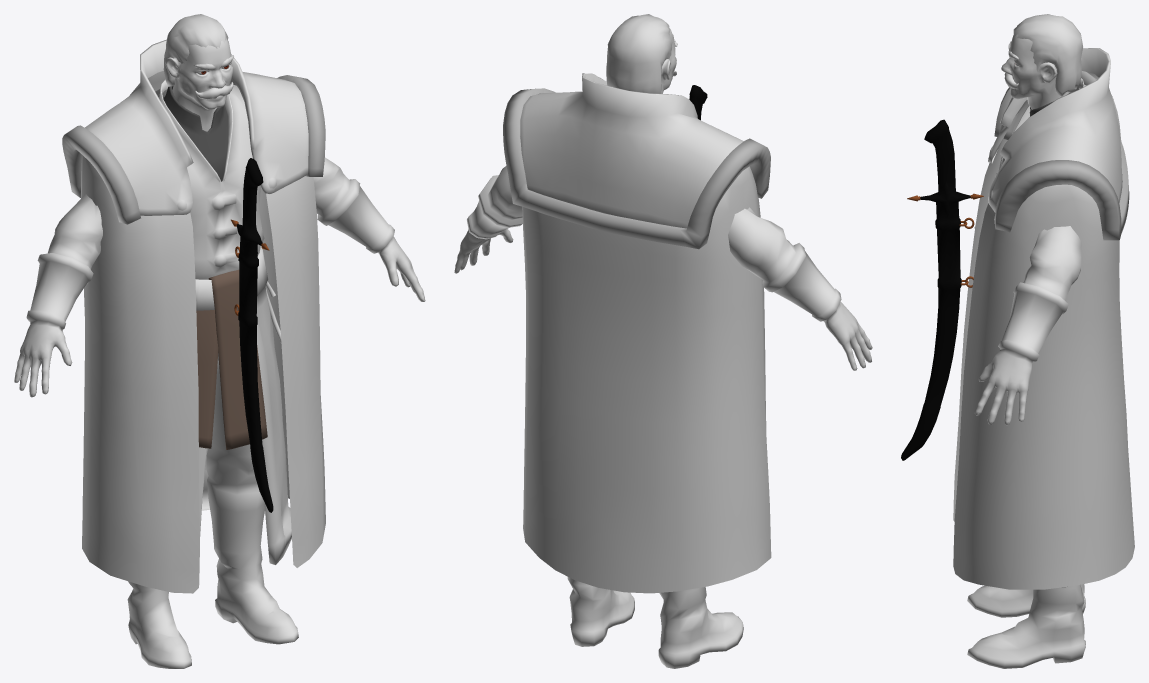
Rendered from Magnat.fbx.
3 renders of one model, left to right at view 1: azimuth 30°, elevation 25°; view 2: azimuth 150°, elevation 25°; view 3: azimuth 270°, elevation 25°, orthographic.
Parts seen in each view (by area): view 1: Cloak_low, cloth_low, legs_low, skirt_low, head_low, sword_low; view 2: Cloak_low, cloth_low, legs_low, head_low; view 3: Cloak_low, cloth_low, legs_low, sword_low, head_low.
Part boxes in pixels (box(x1,y1,x2,y2)): Cloak_low: box(62, 39, 325, 593); cloth_low: box(14, 79, 425, 397); legs_low: box(127, 353, 298, 668); skirt_low: box(195, 246, 291, 564); head_low: box(163, 14, 233, 131); sword_low: box(231, 158, 273, 512); Cloak_low: box(503, 73, 771, 593); cloth_low: box(454, 166, 872, 370); legs_low: box(567, 577, 743, 668); head_low: box(606, 14, 677, 93); Cloak_low: box(953, 48, 1134, 589); cloth_low: box(974, 78, 1084, 424); legs_low: box(967, 584, 1085, 668); sword_low: box(901, 119, 983, 460); head_low: box(1001, 14, 1082, 109).
Size of the model in its own units: 123 by 181 by 62.11.
